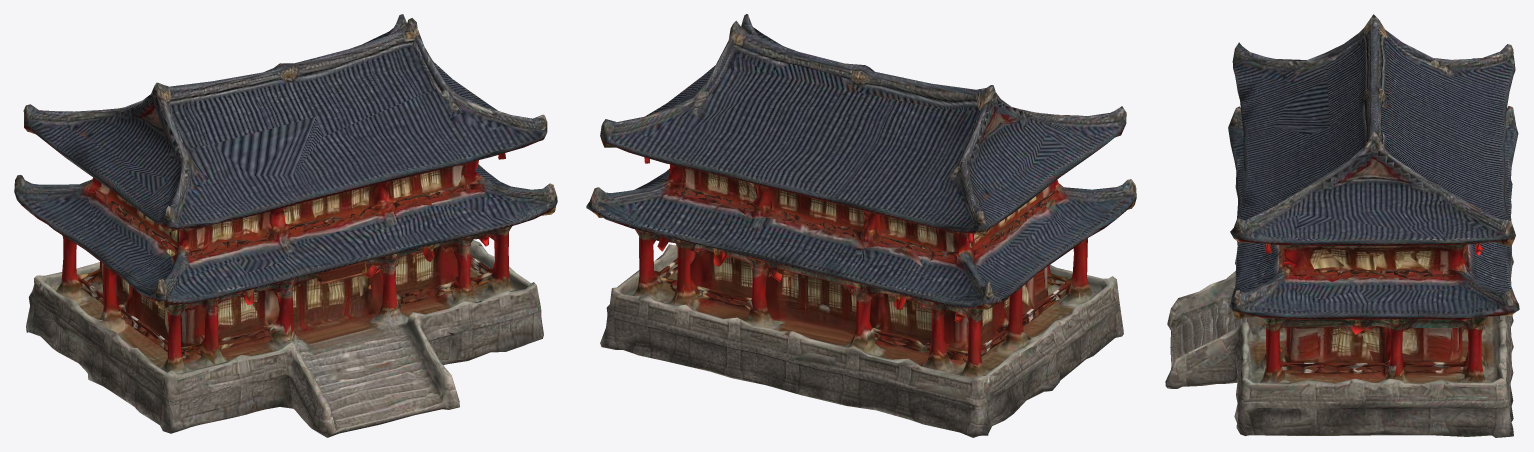
File: casa_g.glb
The picture shows the model from 3 angles, left to right: view 1: azimuth 30°, elevation 25°; view 2: azimuth 150°, elevation 25°; view 3: azimuth 270°, elevation 25°; orthographic projection. The views are drawn at different scales.
Visible parts, largest first — view 1: casa_g; view 2: casa_g; view 3: casa_g.
Part boxes in pixels (x1=…): casa_g: x1=14, y1=14, x2=557, y2=437; casa_g: x1=586, y1=14, x2=1136, y2=437; casa_g: x1=1165, y1=14, x2=1519, y2=437.
Bounding box in the file's own units: 14.26 × 10 × 11.26.
Materials: 1 (1 with a texture image).
